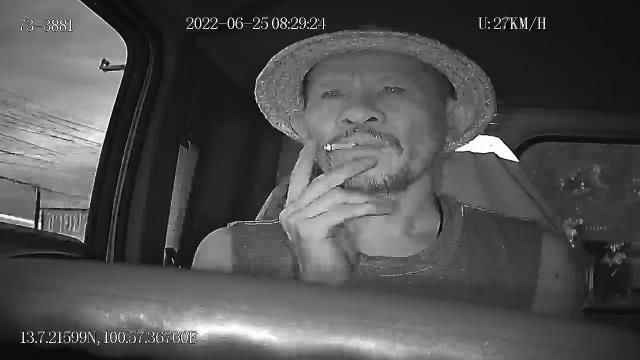SafeDriving: (374, 75, 410, 100), (316, 81, 352, 106)
Smoking: (324, 140, 358, 152)
